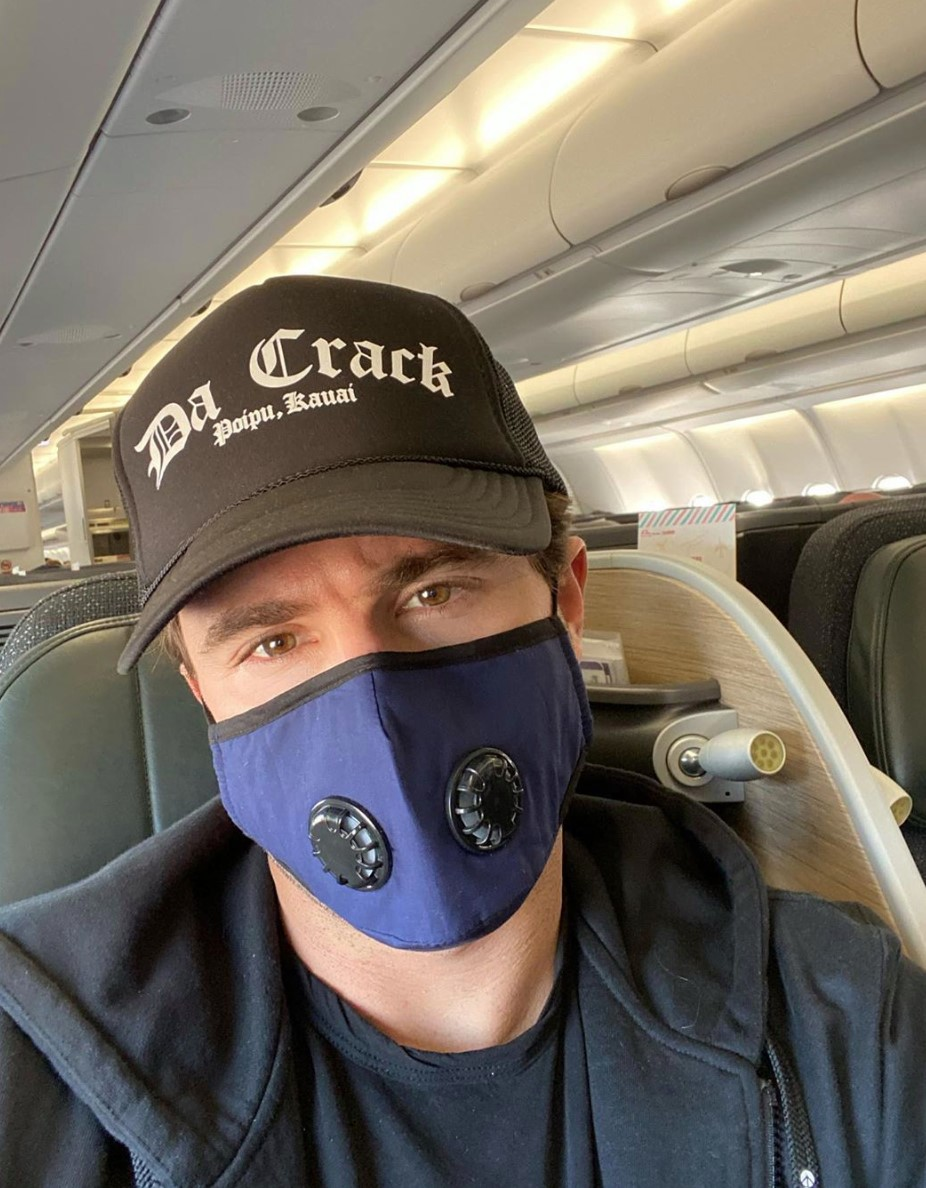face_with_mask: (111, 281, 586, 966)
